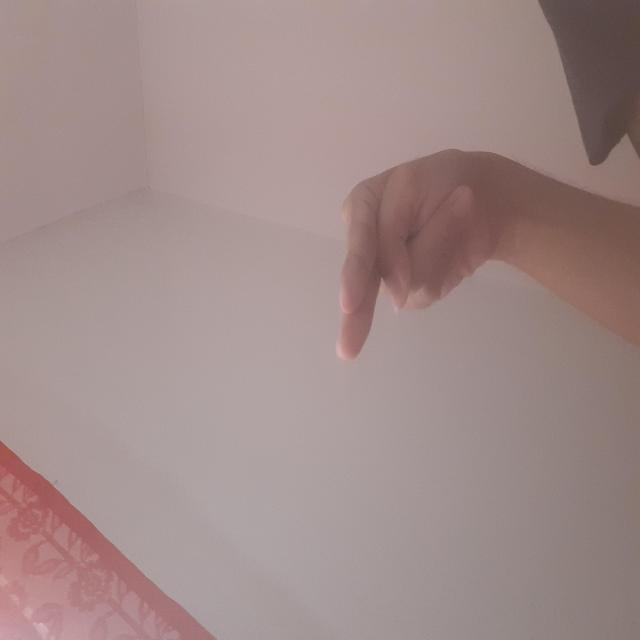N: (277, 332, 489, 489)
